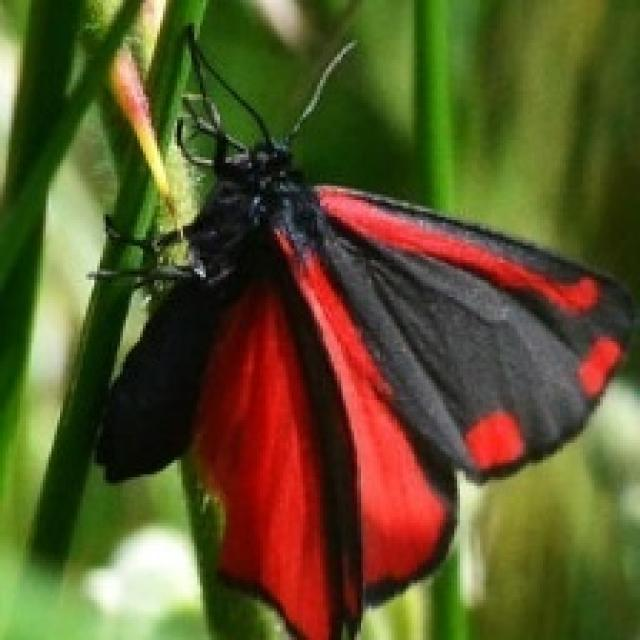butterfly: (83, 23, 637, 637)
